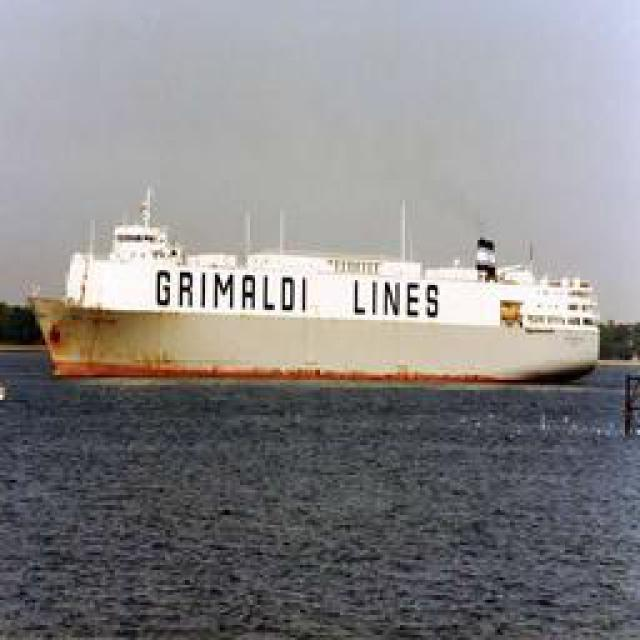Ship: (42, 188, 592, 383)
